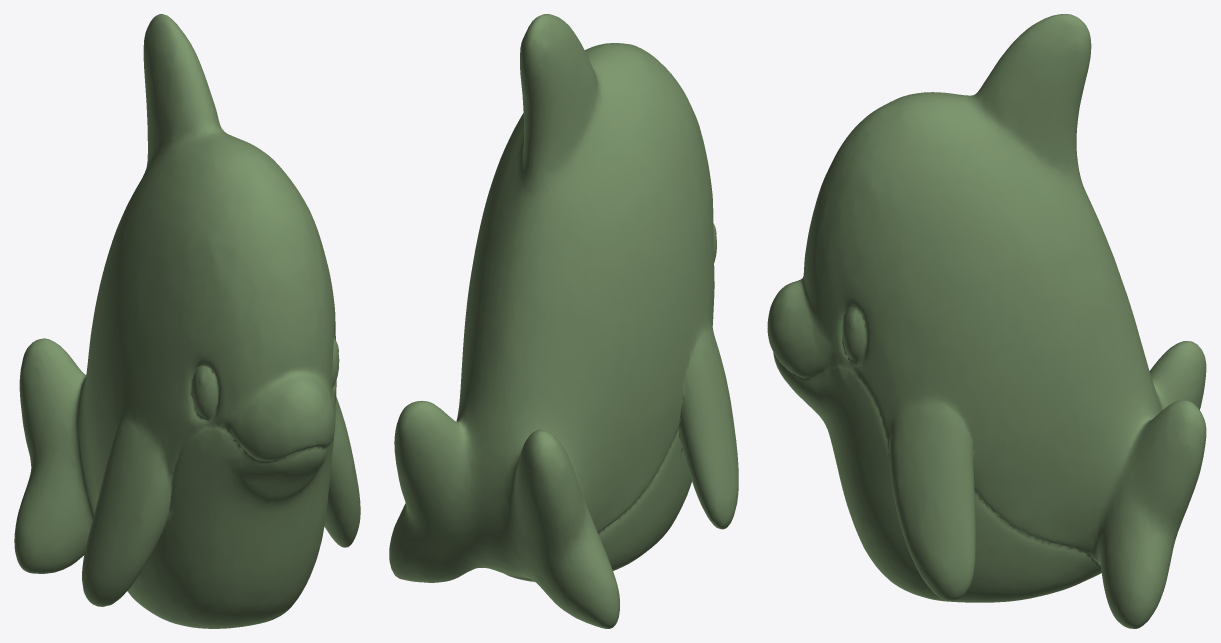
The model's file is ocean-fish.glb.
3 renders of one model, left to right at view 1: azimuth 30°, elevation 25°; view 2: azimuth 150°, elevation 25°; view 3: azimuth 270°, elevation 25°, orthographic.
Visible parts, largest first — view 1: tripo_printable_source; view 2: tripo_printable_source; view 3: tripo_printable_source.
Boxes of the visible parts, left/top/right/bottom form: tripo_printable_source: left=14, top=14, right=360, bottom=628; tripo_printable_source: left=389, top=14, right=738, bottom=628; tripo_printable_source: left=767, top=14, right=1206, bottom=628.
Bounding box in the file's own units: 50.02 × 100 × 70.
